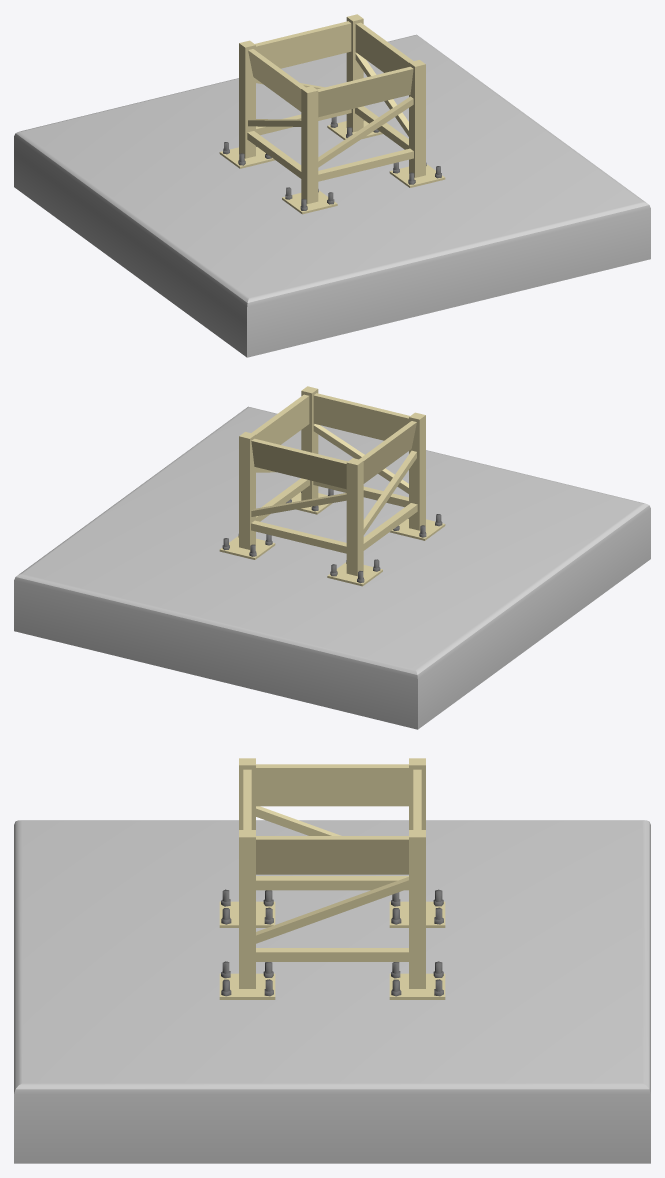
The model's file is CraneBase.fbx.
The picture shows the model from 3 angles, top to bottom: view 1: azimuth 30°, elevation 25°; view 2: azimuth 150°, elevation 25°; view 3: azimuth 270°, elevation 25°; orthographic projection. The views are drawn at different scales.
Parts seen in each view (by area): view 1: polySurface14; view 2: polySurface14; view 3: polySurface14.
Part boxes in pixels (bbox=[...]): polySurface14: bbox=[14, 14, 650, 357]; polySurface14: bbox=[14, 386, 650, 729]; polySurface14: bbox=[14, 758, 650, 1163].
Size of the model in its own units: 15 by 6.01 by 15.
